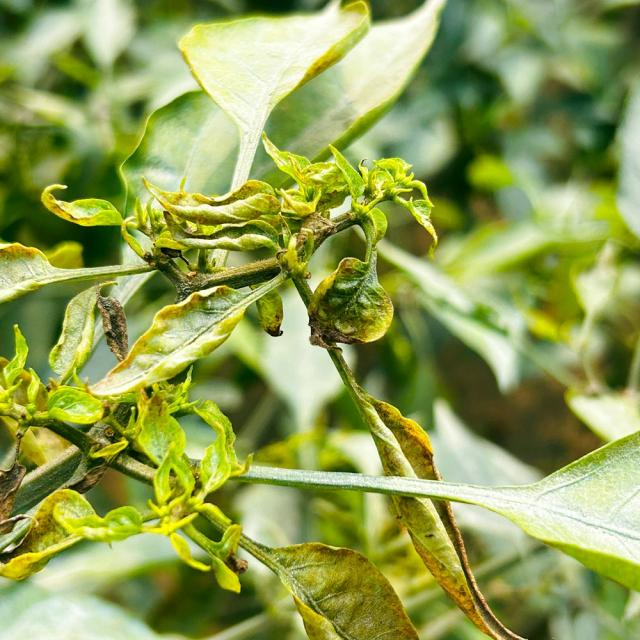Chilli_Leaf_Curl: (0, 0, 638, 638), (140, 131, 438, 349), (322, 344, 527, 639), (175, 0, 372, 194), (87, 269, 286, 399), (228, 526, 420, 638), (306, 255, 394, 349)
